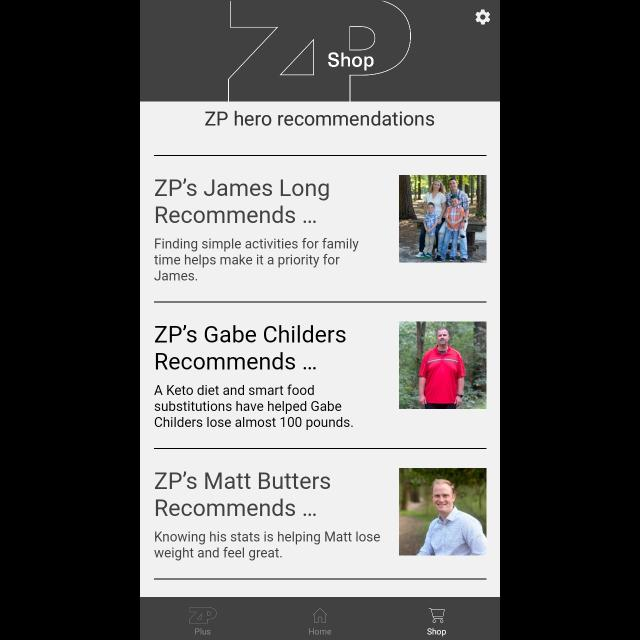icon: (312, 608, 328, 624), (428, 608, 444, 622), (476, 10, 490, 24)
image: (229, 0, 411, 101), (398, 175, 486, 263), (399, 468, 486, 556), (399, 322, 486, 408), (190, 608, 217, 624)
text: (154, 384, 353, 430), (155, 238, 359, 282), (156, 326, 346, 370), (155, 178, 329, 224), (156, 472, 330, 516), (155, 531, 381, 561), (206, 112, 434, 126), (328, 52, 374, 72), (308, 628, 332, 636), (428, 628, 447, 636), (195, 628, 211, 636)
